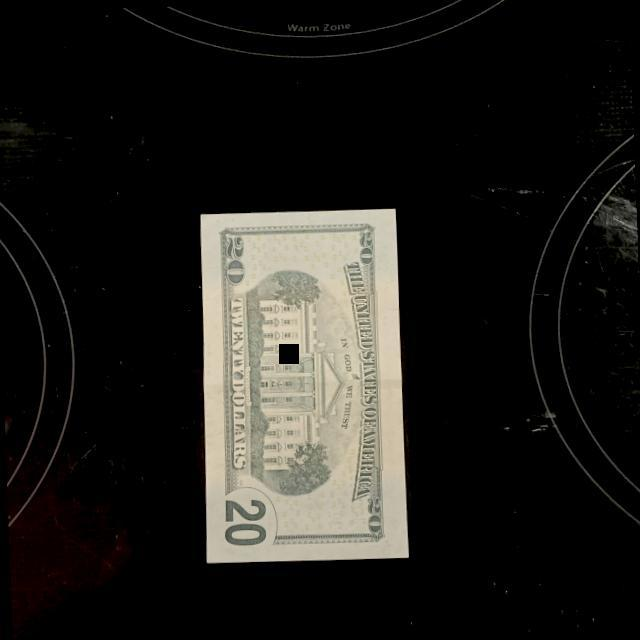twenty: (192, 205, 410, 564)
